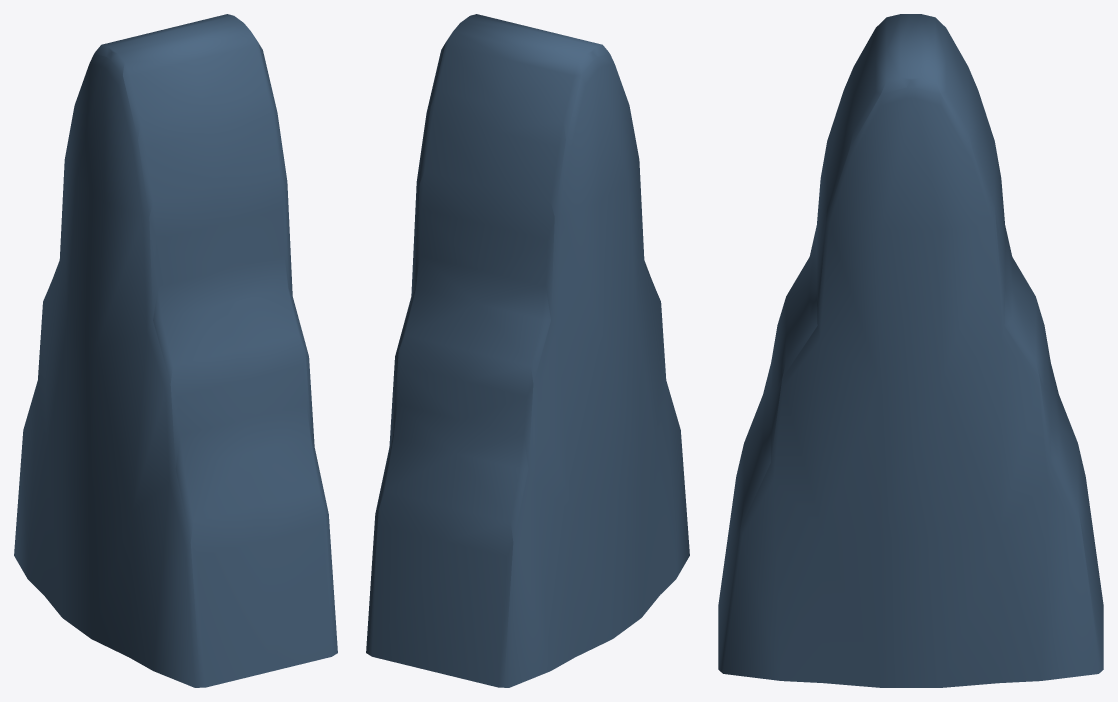
The model's file is Rock01.fbx.
3 views of the same model, side by side, from view 1: azimuth 30°, elevation 25°; view 2: azimuth 150°, elevation 25°; view 3: azimuth 270°, elevation 25° (orthographic). The views are drawn at different scales.
Parts seen in each view (by area): view 1: Rock002; view 2: Rock002; view 3: Rock002.
Boxes of the visible parts, <box> form: Rock002: <box>14,14,337,687</box>; Rock002: <box>366,14,689,687</box>; Rock002: <box>718,14,1103,687</box>.
Bounding box in the file's own units: 22.46 × 61.57 × 36.34.
Materials: 1 (1 with a texture image).
